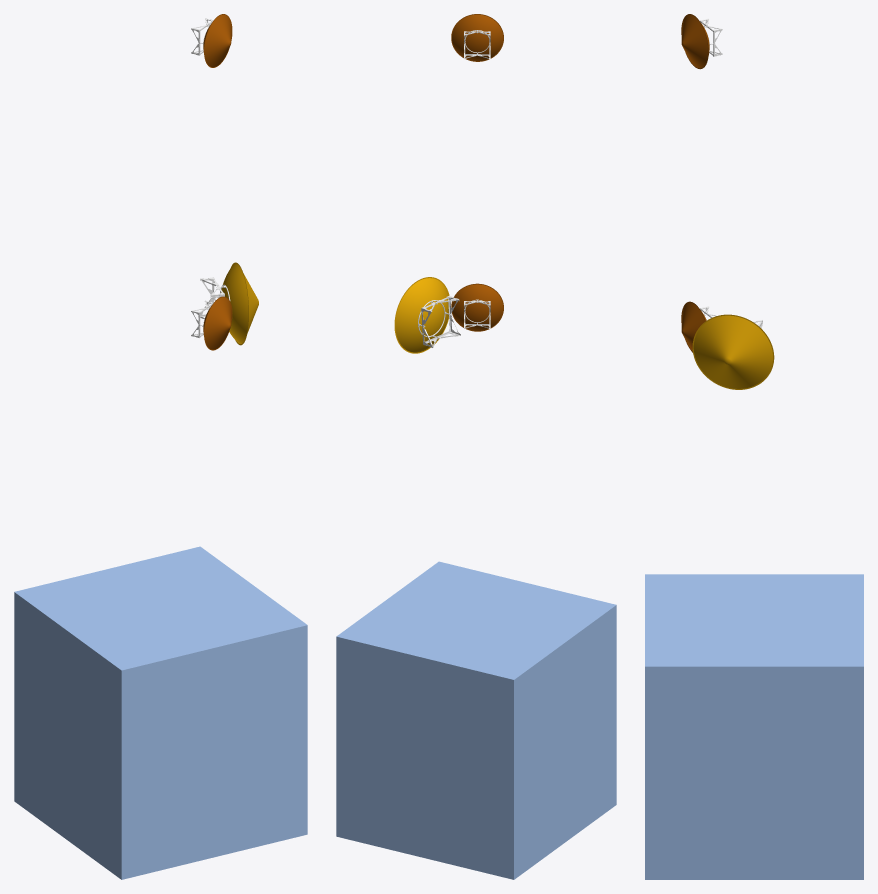
The model's file is 八重岳.glb.
3 views of the same model, side by side, from view 1: azimuth 30°, elevation 25°; view 2: azimuth 150°, elevation 25°; view 3: azimuth 270°, elevation 25° (orthographic). The views are drawn at different scales.
Visible parts, largest first — view 1: group_21, group_38, group_38.008, group_38.004; view 2: group_21, group_38, group_38.008, group_38.004; view 3: group_21, group_38, group_38.008, group_38.004.
Part boxes in pixels (x1,y1,x2,y2): group_21: (14,546,307,879); group_38: (221,263,258,343); group_38.008: (203,14,231,67); group_38.004: (203,297,231,349); group_21: (336,561,616,879); group_38: (395,278,448,352); group_38.008: (452,14,503,61); group_38.004: (452,284,503,330); group_21: (645,574,863,879); group_38: (693,315,772,388); group_38.008: (681,14,709,68); group_38.004: (681,302,706,351).
Size of the model in its own units: 8 by 33.53 by 8.
